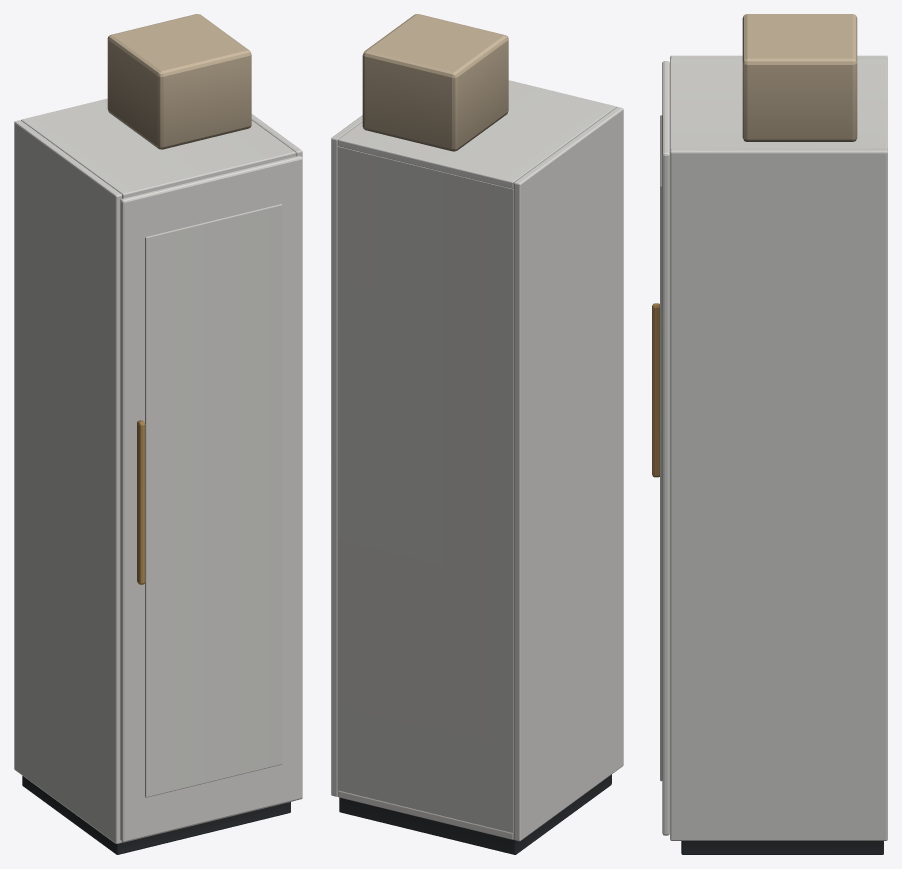
File: wardrobeSingle.glb
The picture shows the model from 3 angles, left to right: view 1: azimuth 30°, elevation 25°; view 2: azimuth 150°, elevation 25°; view 3: azimuth 270°, elevation 25°; orthographic projection. The views are drawn at different scales.
Parts seen in each view (by area): view 1: door, wardrobeSingle; view 2: wardrobeSingle; view 3: wardrobeSingle, door.
Boxes of the visible parts, <box> form: door: <box>120,155,302,842</box>; wardrobeSingle: <box>14,14,302,854</box>; wardrobeSingle: <box>331,14,623,854</box>; wardrobeSingle: <box>670,14,887,854</box>; door: <box>652,61,669,835</box>.
Size of the model in its own units: 0.6 by 2.28 by 0.617.
